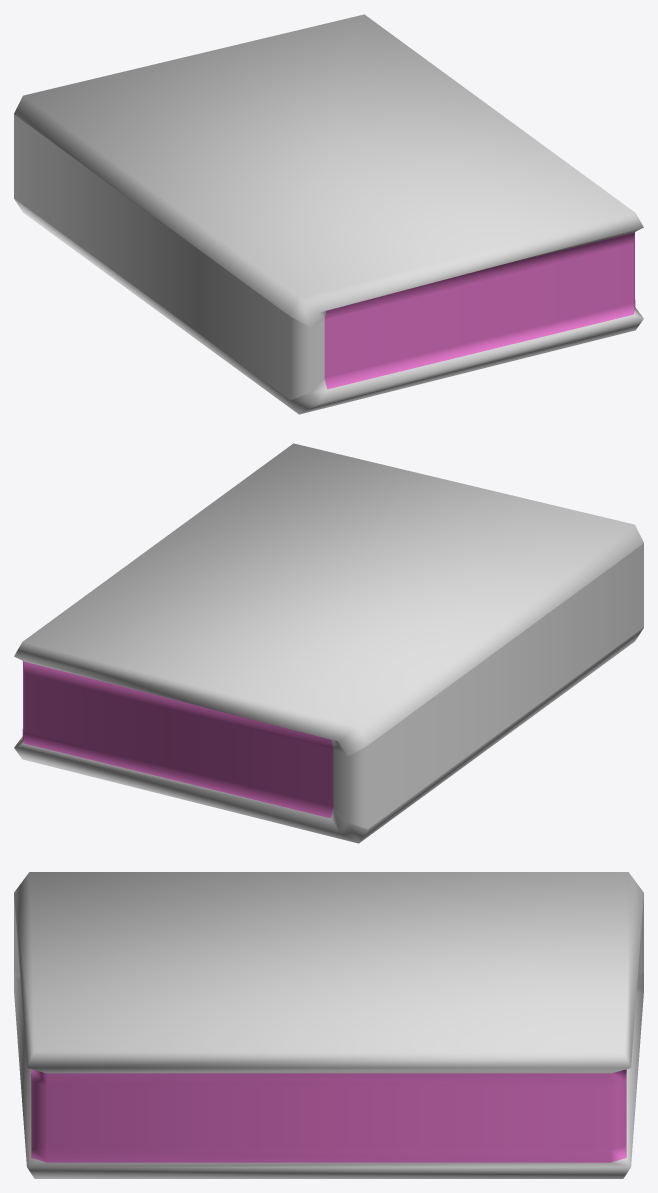
File: salon_książka.fbx
3 views of the same model, one above another, from view 1: azimuth 30°, elevation 25°; view 2: azimuth 150°, elevation 25°; view 3: azimuth 270°, elevation 25° (orthographic). The views are drawn at different scales.
Parts seen in each view (by area): view 1: Cube; view 2: Cube; view 3: Cube.
Boxes of the visible parts, x1,y1,x2,y2 form: Cube: (14,14,643,414); Cube: (14,443,643,843); Cube: (14,872,643,1178).
Size of the model in its own units: 14.05 by 4.46 by 19.97.
